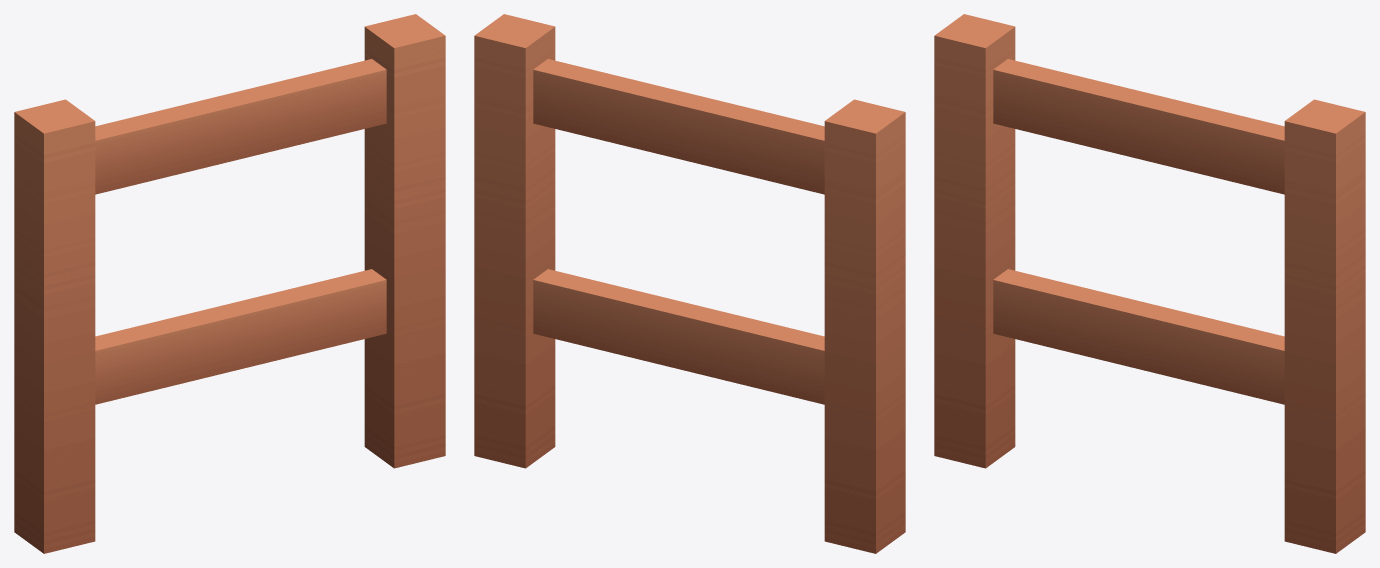
File: tower-defense-kit--wood-structure-high-part.glb
The picture shows the model from 3 angles, left to right: view 1: azimuth 30°, elevation 25°; view 2: azimuth 150°, elevation 25°; view 3: azimuth 330°, elevation 25°; orthographic projection.
Parts seen in each view (by area): view 1: wood-structure-high-part; view 2: wood-structure-high-part; view 3: wood-structure-high-part.
Part boxes in pixels (x1=…): wood-structure-high-part: x1=14, y1=14, x2=445, y2=553; wood-structure-high-part: x1=474, y1=14, x2=905, y2=553; wood-structure-high-part: x1=934, y1=14, x2=1365, y2=553.
Size of the model in its own units: 1 by 1 by 0.128.
1 material, 1 textured.
